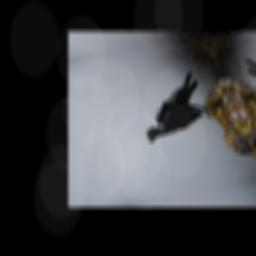Crow: (121, 69, 221, 144)
